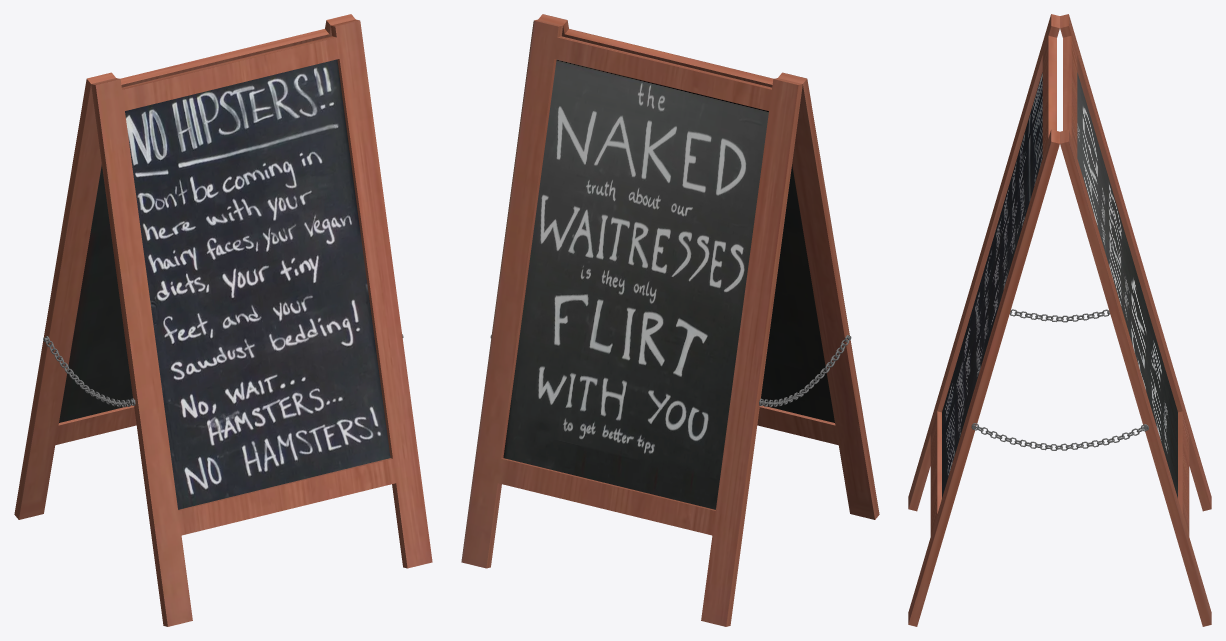
The model's file is chalkboard-model-c72239.glb.
3 renders of one model, left to right at view 1: azimuth 30°, elevation 25°; view 2: azimuth 150°, elevation 25°; view 3: azimuth 270°, elevation 25°, orthographic.
Visible parts, largest first — view 1: Sign_lambert1_0; view 2: Sign_lambert1_0; view 3: Sign_lambert1_0.
Boxes of the visible parts, <box> form: Sign_lambert1_0: <box>14,14,432,626</box>; Sign_lambert1_0: <box>461,14,879,626</box>; Sign_lambert1_0: <box>908,14,1211,626</box>.
Size of the model in its own units: 0.6999 by 1.2 by 0.6814.
1 material, 1 textured.
